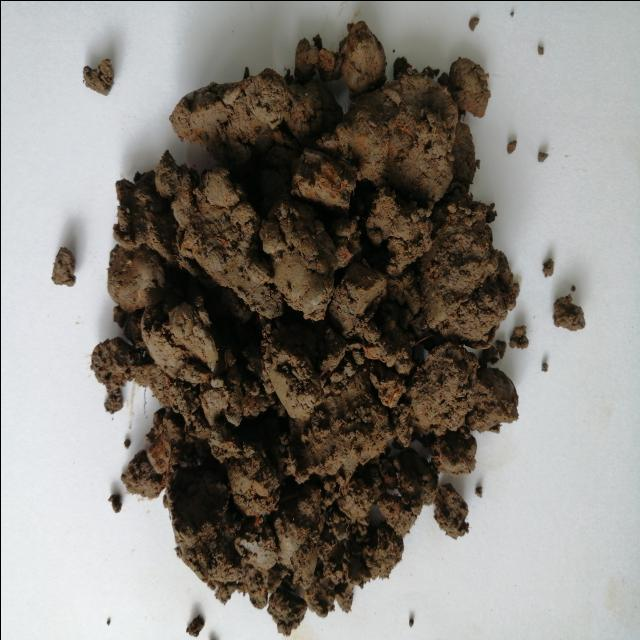soil: (88, 0, 490, 546)
